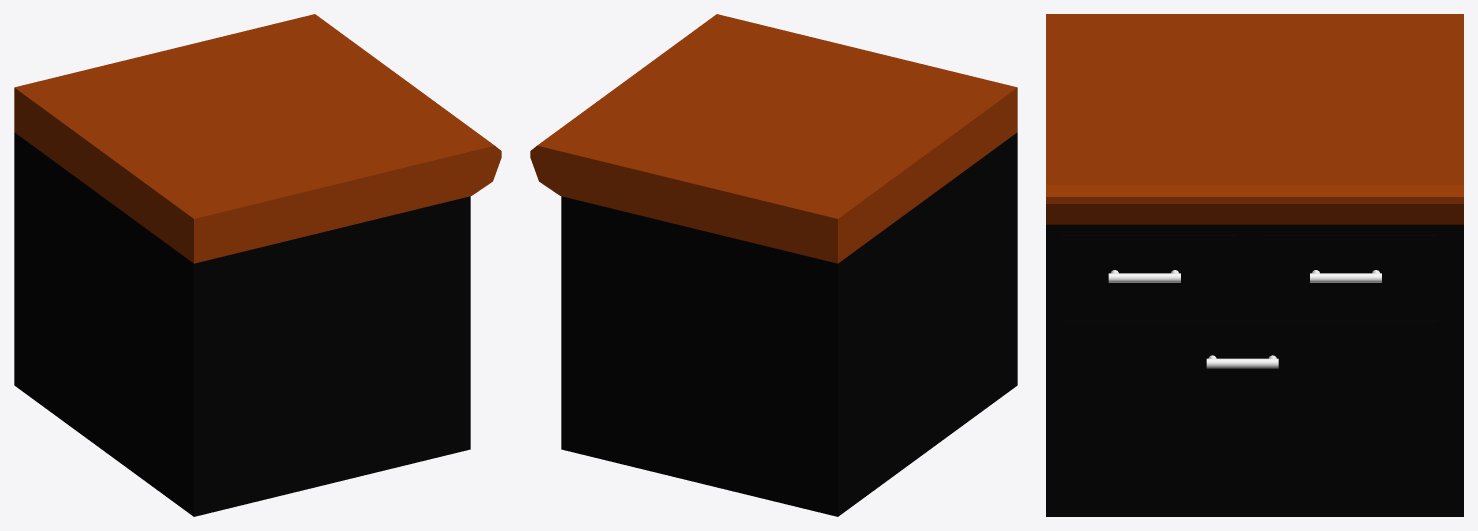
Rendered from workplan_002.glb.
3 views of the same model, side by side, from view 1: azimuth 30°, elevation 25°; view 2: azimuth 150°, elevation 25°; view 3: azimuth 270°, elevation 25° (orthographic). The views are drawn at different scales.
Parts seen in each view (by area): view 1: workplan_002; view 2: workplan_002; view 3: workplan_002.
Boxes of the visible parts, x1,y1,x2,y2 form: workplan_002: (14, 14, 501, 516); workplan_002: (530, 14, 1017, 516); workplan_002: (1046, 14, 1463, 516).
Bounding box in the file's own units: 348 × 322 × 352.
